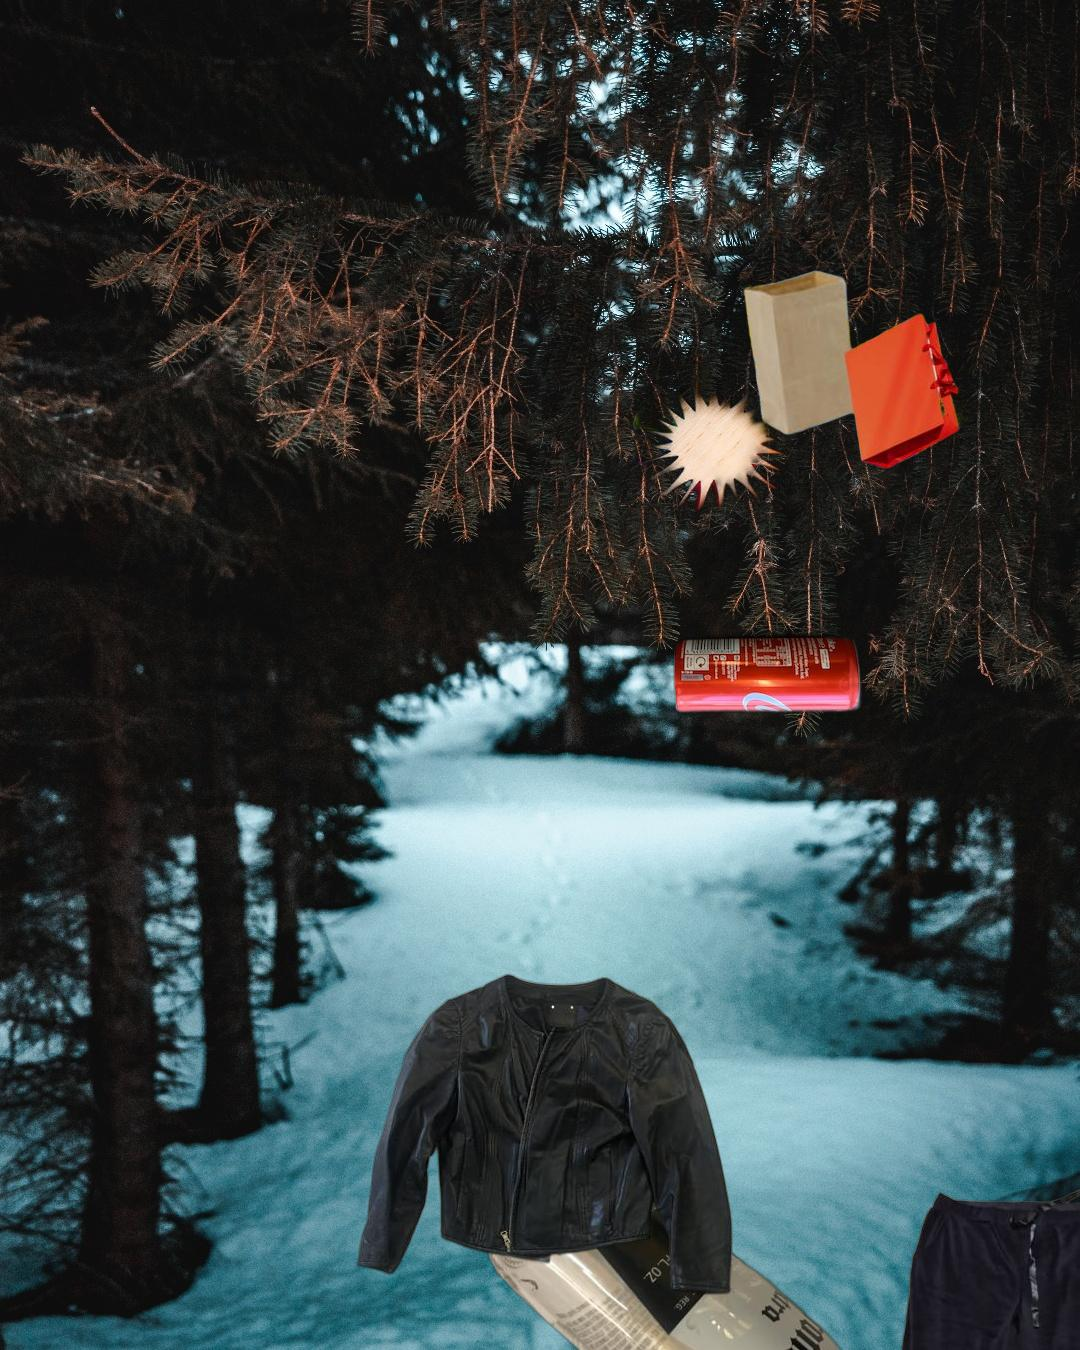clothes: (353, 969, 735, 1299), (852, 1176, 1080, 1350)
glass: (483, 1142, 949, 1350)
metal-cans: (669, 629, 866, 719)
paper-bag: (738, 261, 998, 472)
penholder: (407, 195, 793, 795)
